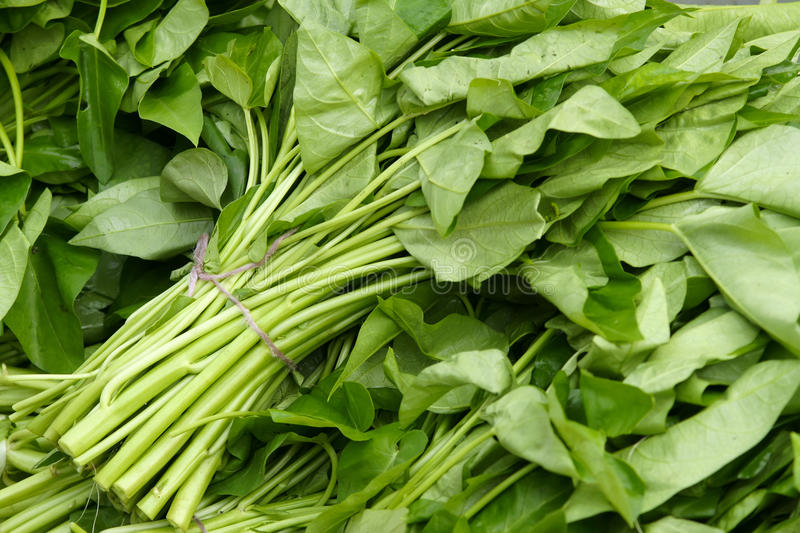Kangkung: (132, 144, 557, 343)
